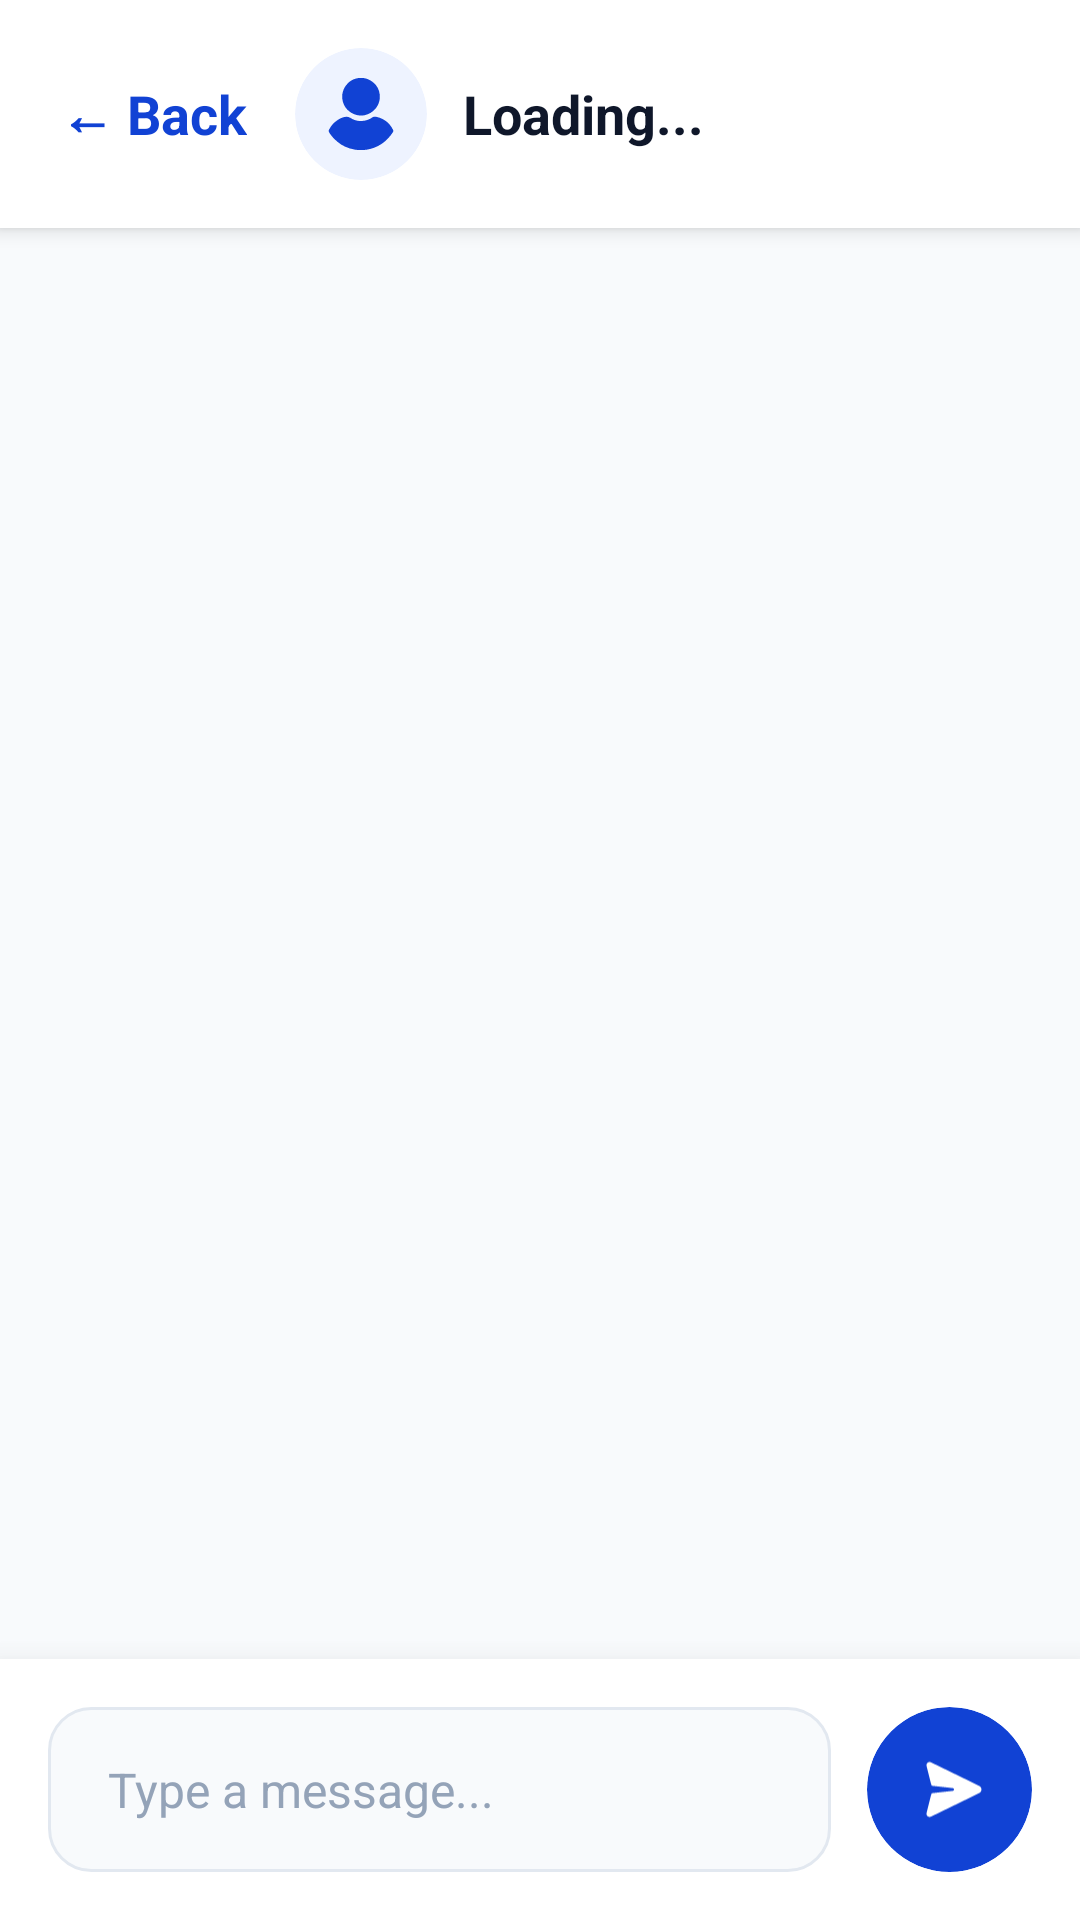

Icons on this 1080 x 1920 Android screen, each with its box as (x1, y1, x2, y2):
send: (876, 1707, 1032, 1872)
user: (328, 78, 394, 150)
